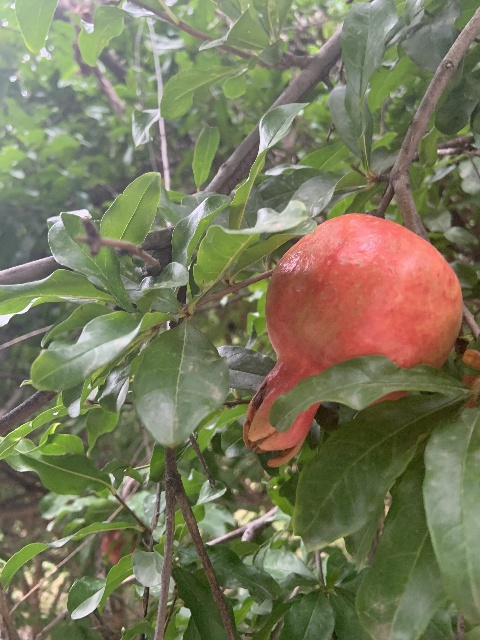ripe: (242, 212, 463, 466)
